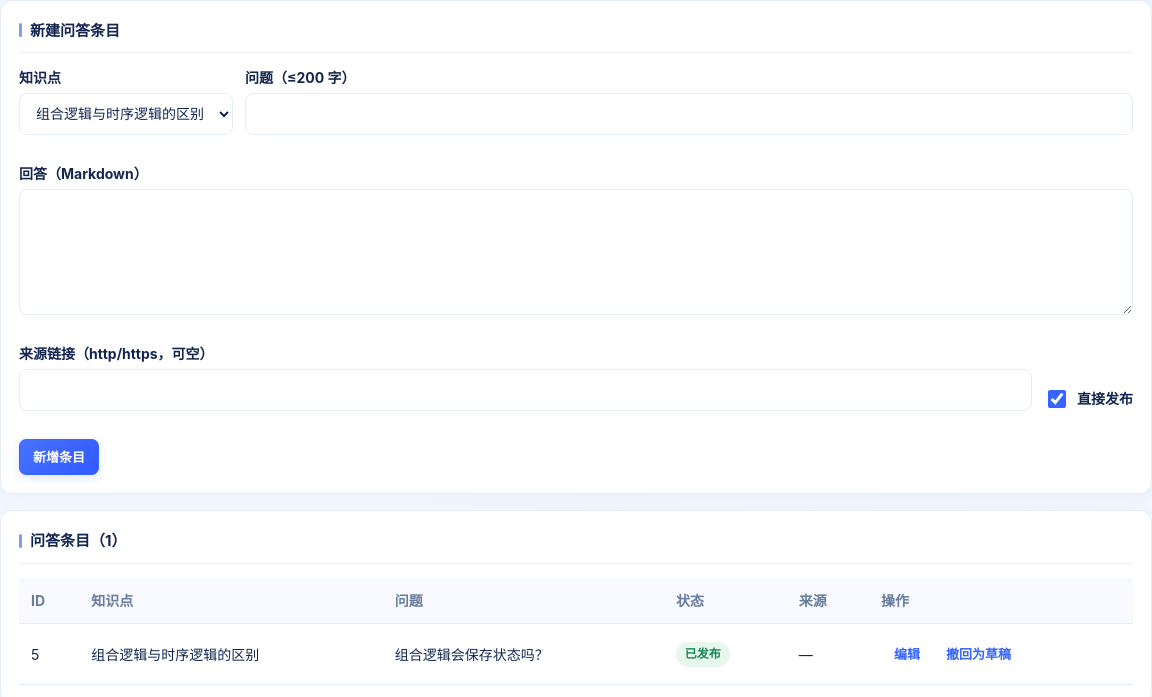
教师问答语料页 › 编辑提交带 version，服务端冲突时显示原因
(page scrolled)
Click the button "编辑" at point(907, 654), box [881,636,933,672]
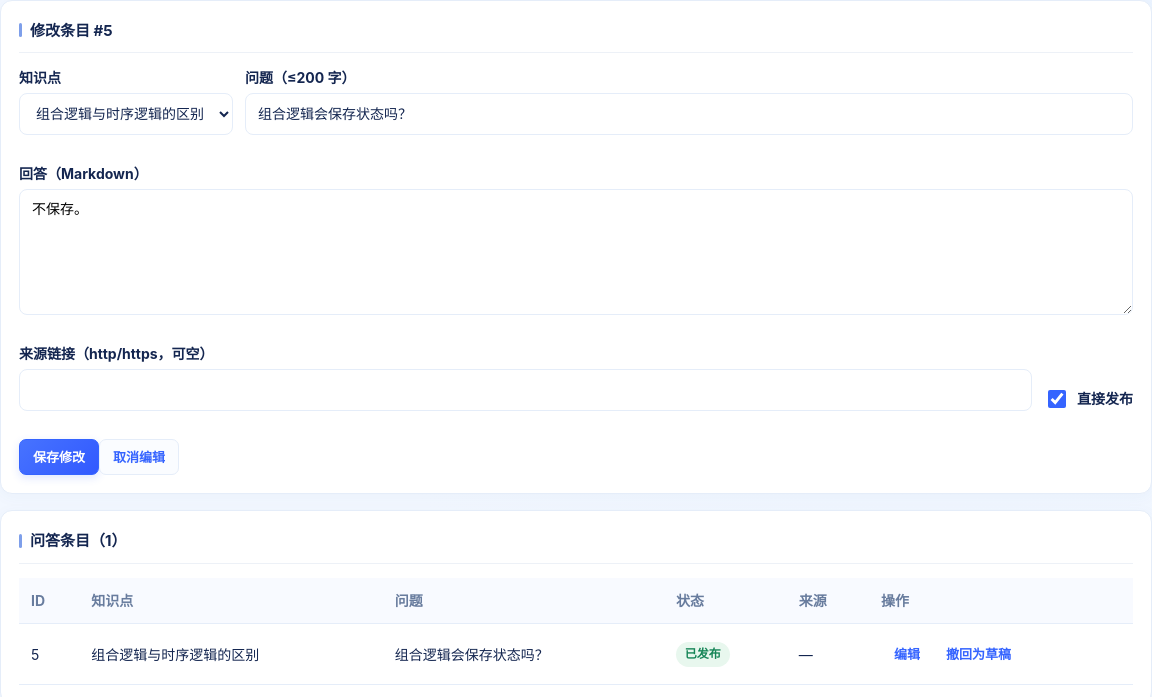
Expected: the field labelled "问题（≤200 字）" holds "组合逻辑会保存状态吗？", [245,93,1133,135]
Submit the form, box [19,67,1133,475]
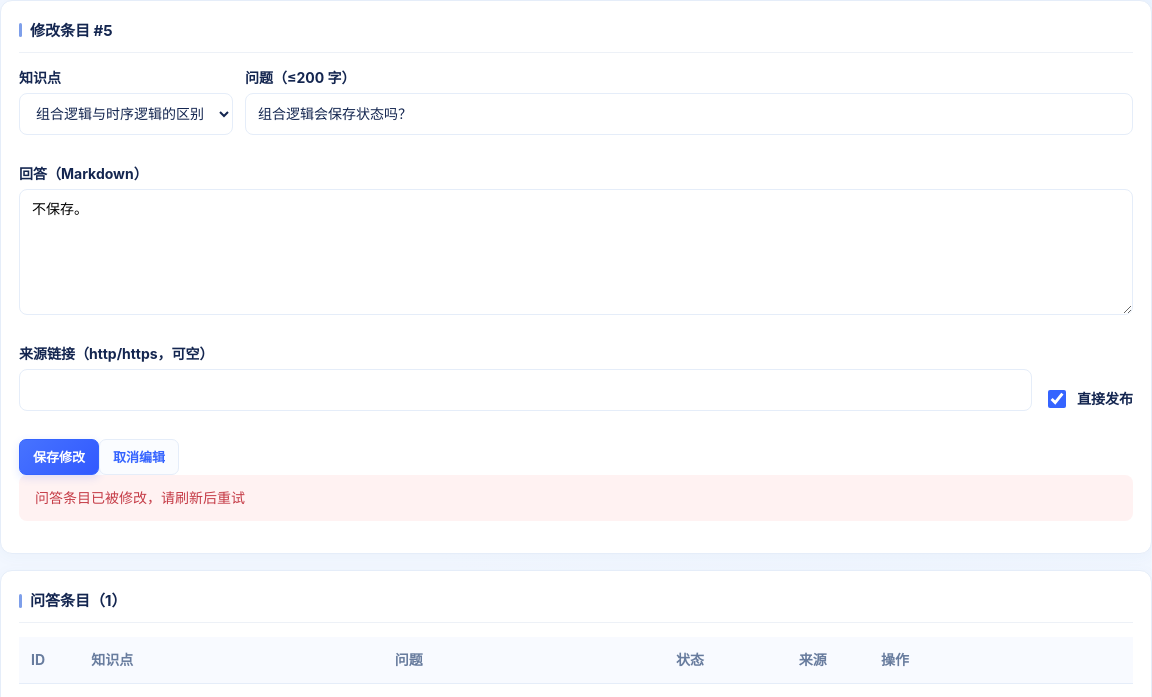
Expected: the text "问答条目已被修改，请刷新后重试" is shown, [19,476,1133,521]
